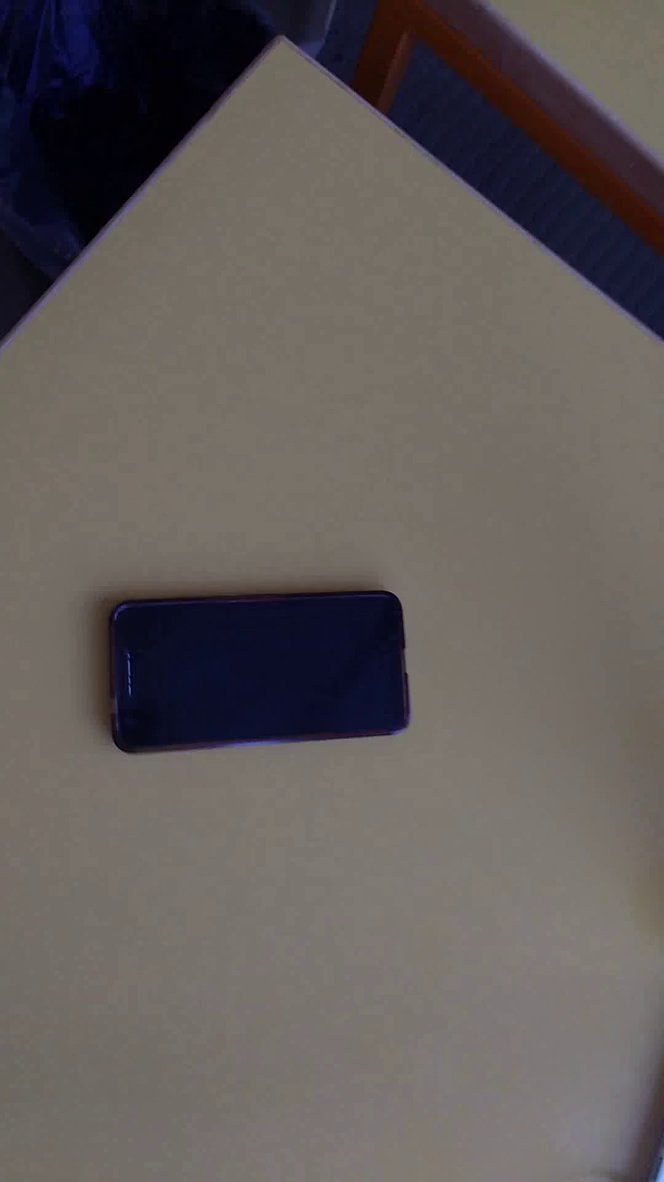phone: (93, 572, 435, 773)
